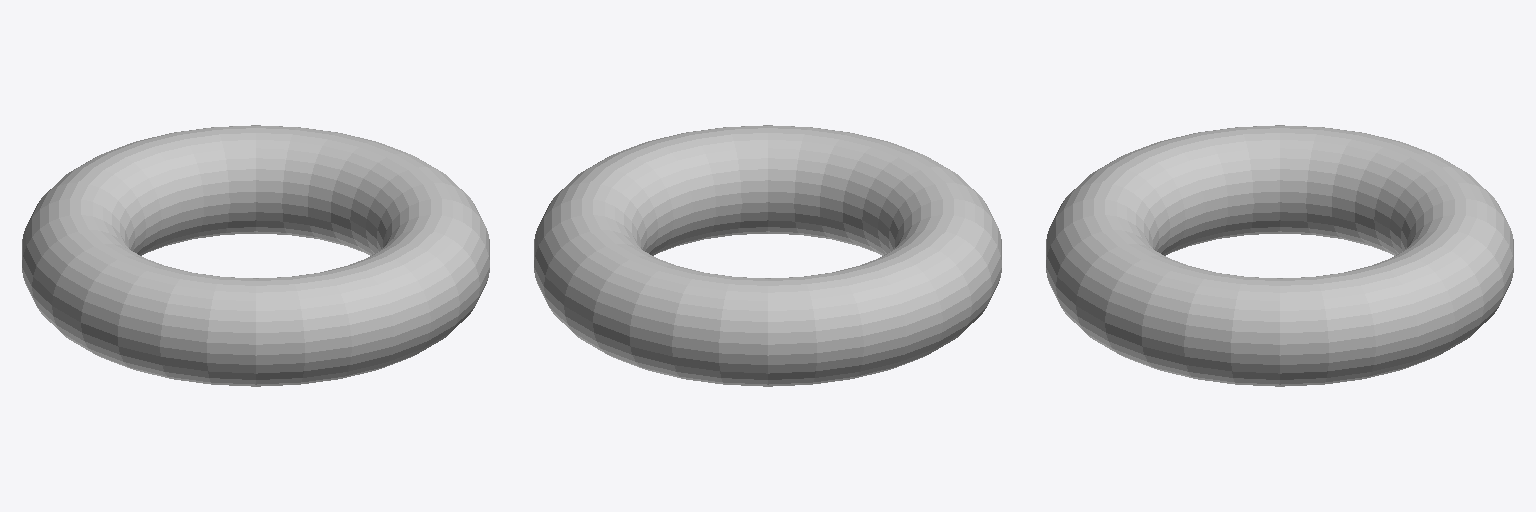
The picture shows the model from 3 angles: view 1: azimuth 30°, elevation 25°; view 2: azimuth 150°, elevation 25°; view 3: azimuth 270°, elevation 25°; orthographic projection.
Parts seen in each view (by area): view 1: Ring; view 2: Ring; view 3: Ring.
Boxes of the visible parts, <box> form: Ring: <box>22,125,489,386</box>; Ring: <box>534,125,1001,386</box>; Ring: <box>1046,125,1513,386</box>.
Size of the model in its own units: 2.6 by 0.5967 by 2.59.